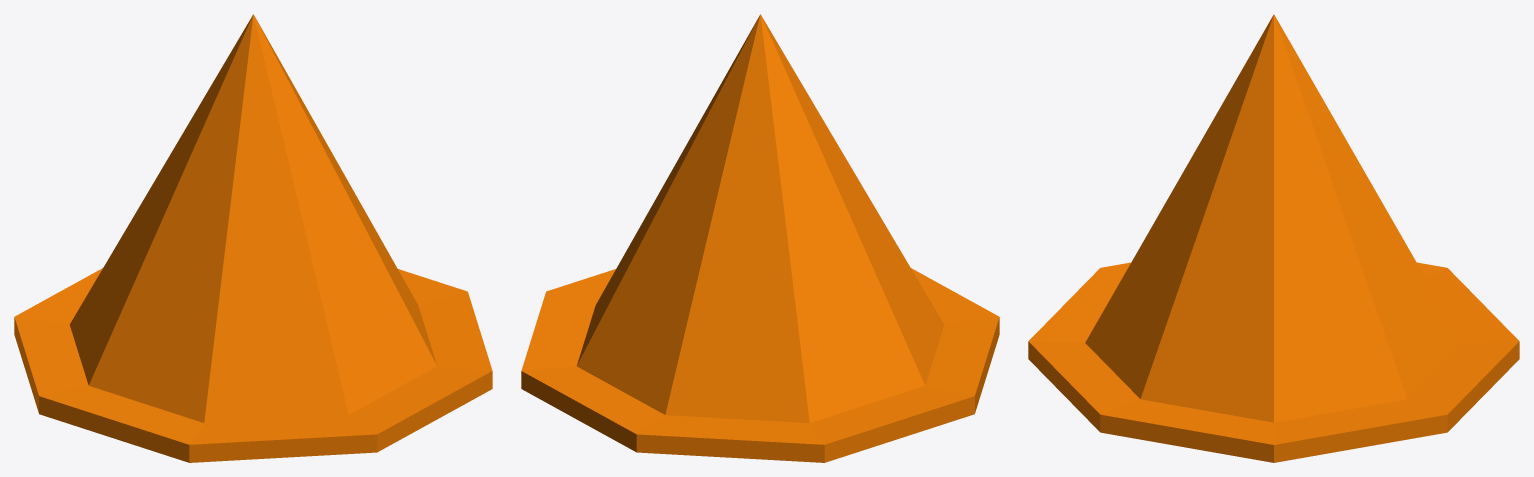
3 renders of one model, left to right at view 1: azimuth 30°, elevation 25°; view 2: azimuth 150°, elevation 25°; view 3: azimuth 270°, elevation 25°, orthographic.
Parts seen in each view (by area): view 1: Cone; view 2: Cone; view 3: Cone.
Part boxes in pixels (bbox=[...]): Cone: bbox=[14, 14, 492, 462]; Cone: bbox=[521, 14, 999, 462]; Cone: bbox=[1028, 14, 1519, 462].
Bounding box in the file's own units: 272 × 211 × 272.
